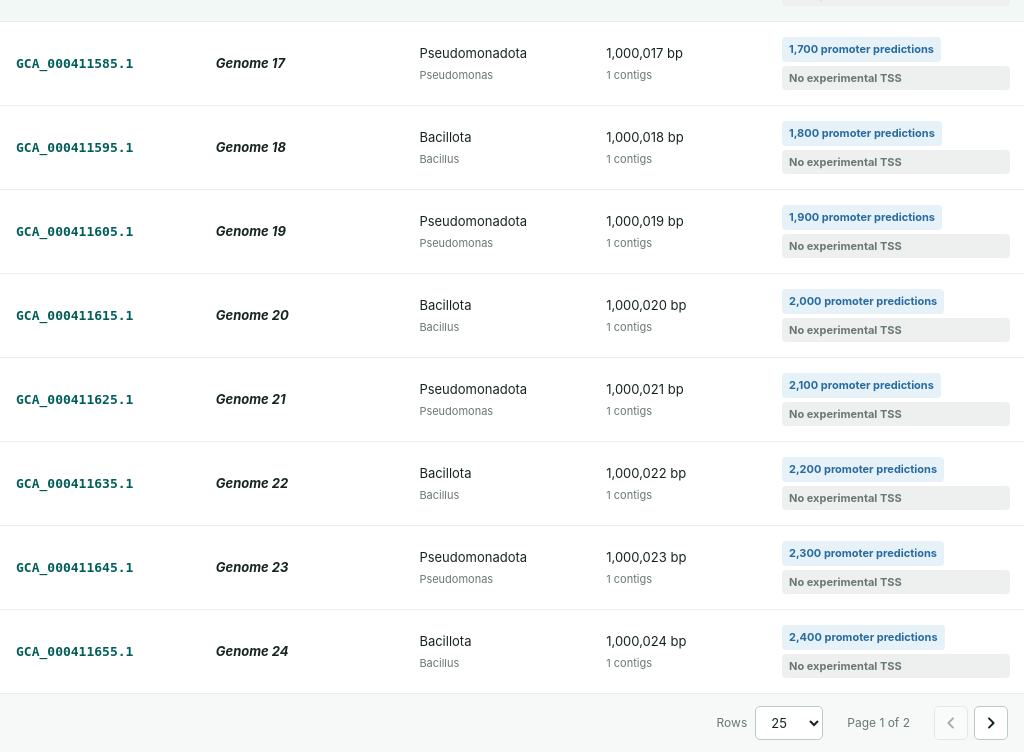
Test: portal genome explorer › uses a cursor stack for next and previous pages
(page scrolled)
Click the button named "Next page" at [991, 723], box [974, 706, 1008, 740]
(page scrolled)
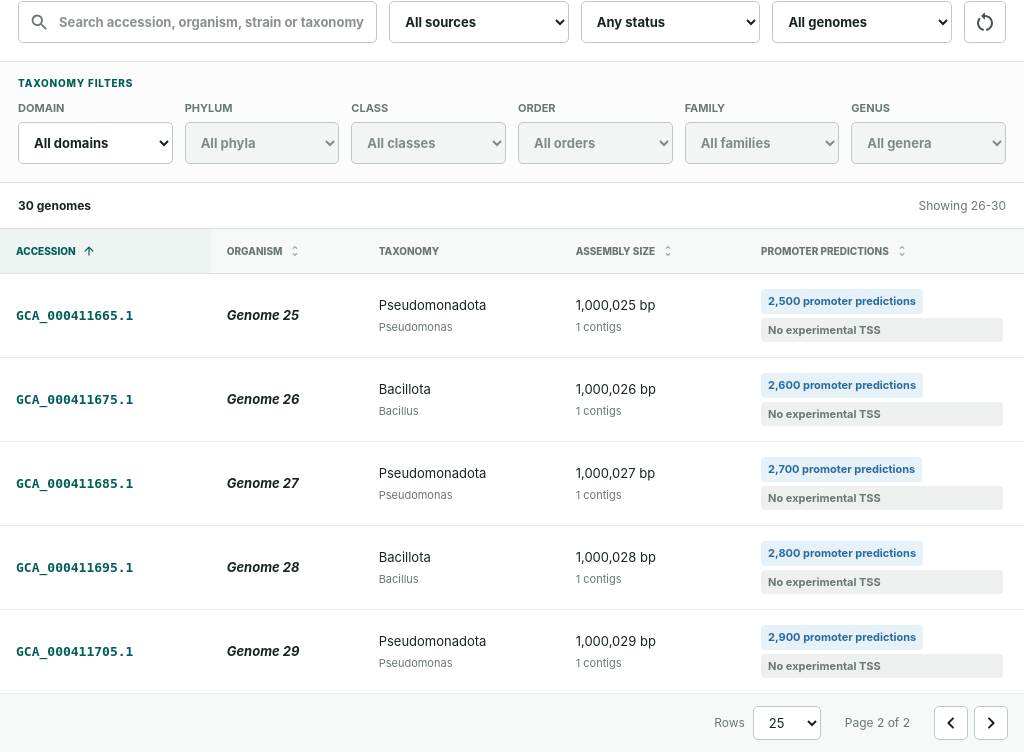
Expected: the text "Page 2 of 2" is shown, [845, 714, 910, 732]
Expected: the link "GCA_000411665.1" is shown, [16, 308, 133, 323]
Expected: the button named "Previous page" is enabled
Click the button named "Previous page" at [951, 723], box [934, 706, 968, 740]
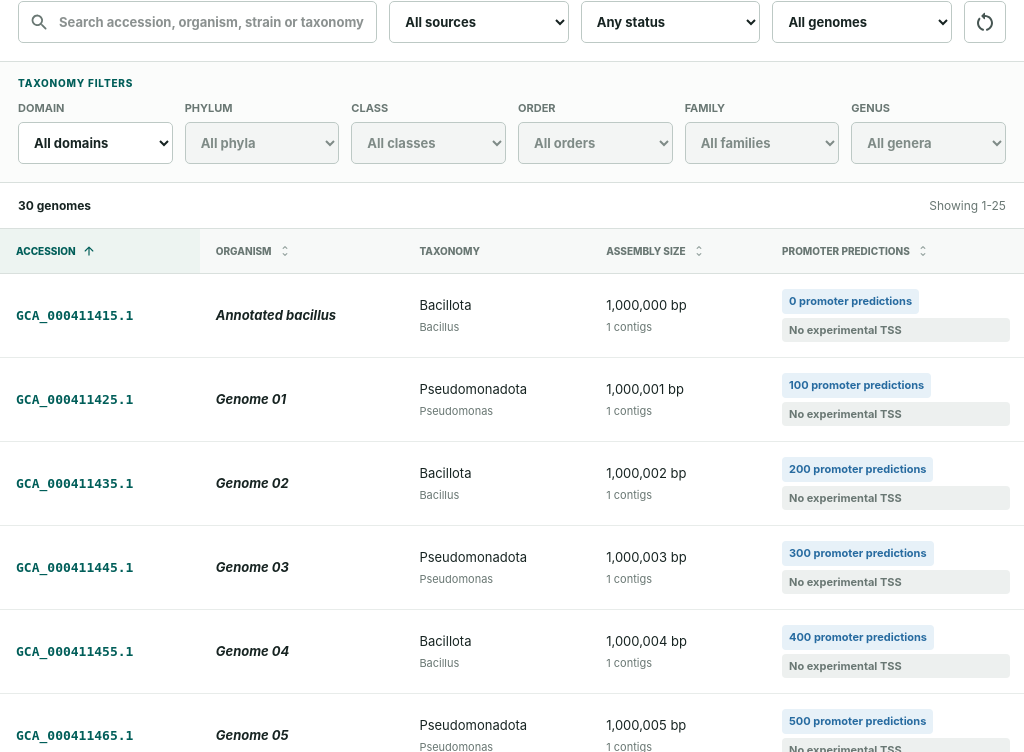
Expected: the link "GCA_000411415.1" is shown, [16, 308, 133, 323]
